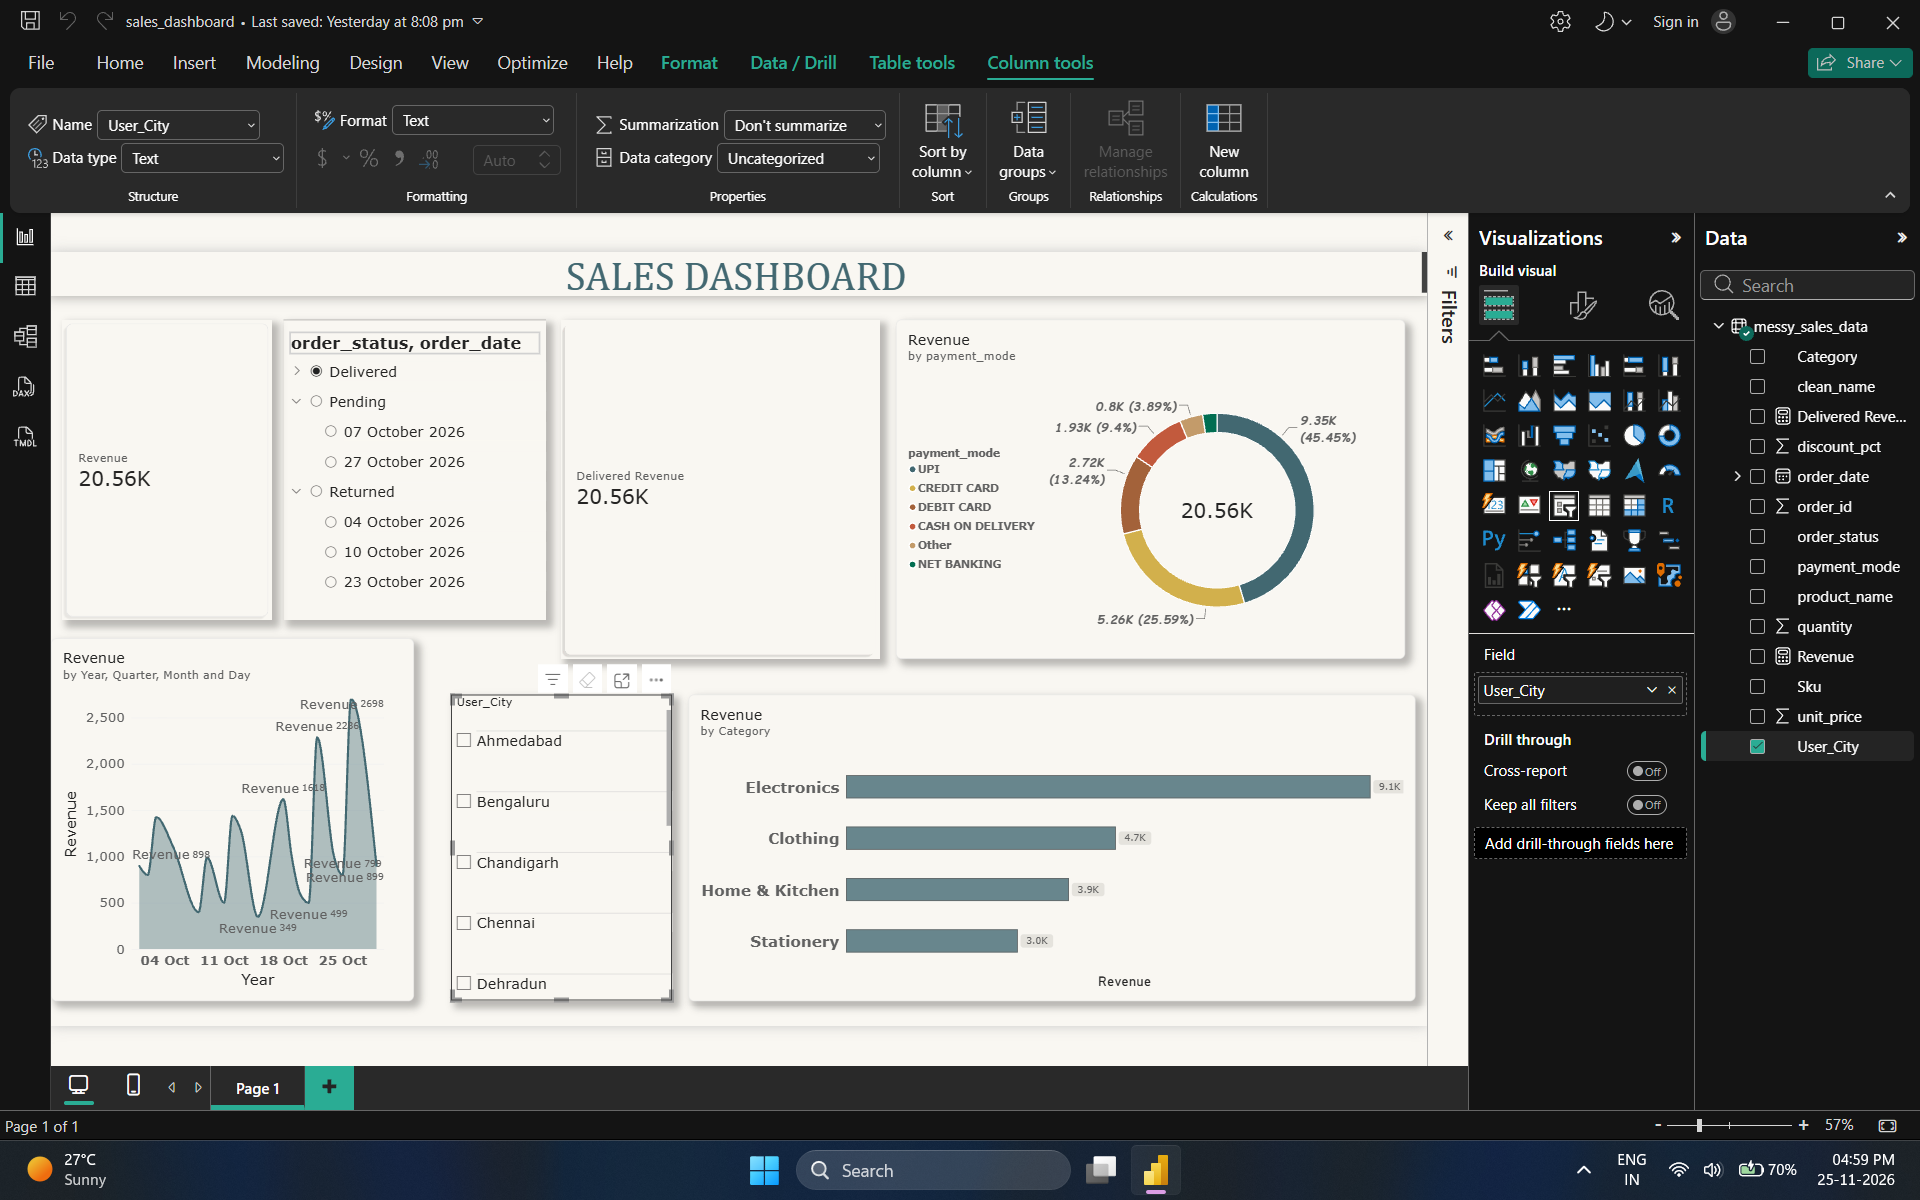

This screenshot's page, from the dashboard's own definition file:
{"tool":"powerbi","page":{"name":"Page 1","canvas":[1920,1080],"ordinal":0},"visuals":[{"type":"cardVisual","fields":{"Data":["messy_sales_data.Revenue"]},"box":[10.3,80.3,298.5,434.3],"z":0},{"type":"clusteredBarChart","fields":{"Category":["messy_sales_data.Category"],"Y":["messy_sales_data.Revenue"]},"box":[889.2,617.5,1014.8,428.1],"z":1000},{"type":"cardVisual","fields":{"Data":["messy_sales_data.Delivered Revenue"]},"box":[711.9,94.3,444.9,473.4],"z":2000},{"type":"lineChart","fields":{"Category":["messy_sales_data.order_date.Variation.Date Hierarchy.Year","messy_sales_data.order_date.Variation.Date Hierarchy.Quarter","messy_sales_data.order_date.Variation.Date Hierarchy.Month","messy_sales_data.order_date.Variation.Date Hierarchy.Day"],"Y":["messy_sales_data.Revenue"]},"box":[10.3,568.1,506.3,506.3],"z":3000},{"type":"slicer","fields":{"Values":["messy_sales_data.order_status","messy_sales_data.order_date"]},"box":[323.9,94.3,366.6,420],"z":4000},{"type":"slicer","fields":{"Values":["messy_sales_data.clean_city"]},"box":[557.8,617.5,308.7,428.1],"z":5000},{"type":"textbox","box":[0,0,1920.4,61.7],"z":6000},{"type":"donutChart","fields":{"Category":["messy_sales_data.payment_mode"],"Y":["messy_sales_data.Revenue"]},"box":[1179.4,94.7,710.1,473.4],"z":7000}]}

Visuals, with their boxes on the page's 1920x1080 design canvas (x1, y1, x2, y2). These are canvas units, not pixel positions in the 1920x1200 screenshot, which may show the page scaled, cropped or inside an application window:
cardVisual - messy_sales_data.Revenue: <region>10, 80, 309, 515</region>
clusteredBarChart - messy_sales_data.Category x messy_sales_data.Revenue: <region>889, 618, 1904, 1046</region>
cardVisual - messy_sales_data.Delivered Revenue: <region>712, 94, 1157, 568</region>
lineChart - messy_sales_data.order_date.Variation.Date Hierarchy.Year x messy_sales_data.order_date.Variation.Date Hierarchy.Quarter: <region>10, 568, 517, 1074</region>
slicer - messy_sales_data.order_status x messy_sales_data.order_date: <region>324, 94, 690, 514</region>
slicer - messy_sales_data.clean_city: <region>558, 618, 866, 1046</region>
textbox: <region>0, 0, 1920, 62</region>
donutChart - messy_sales_data.payment_mode x messy_sales_data.Revenue: <region>1179, 95, 1890, 568</region>
